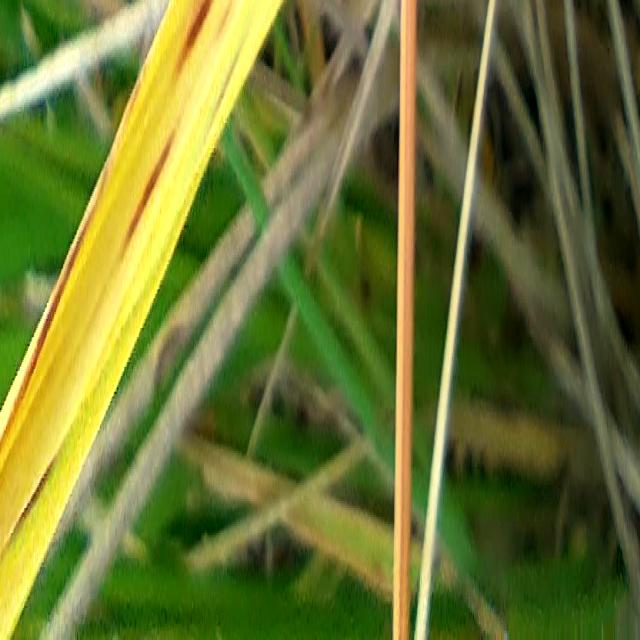NBS: (121, 126, 176, 264), (176, 0, 213, 75)
